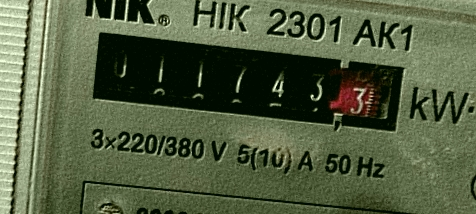0: (109, 45, 132, 83)
1: (192, 54, 210, 90), (155, 51, 168, 84)
3: (305, 69, 327, 105), (348, 85, 369, 120)
4: (268, 65, 288, 101)
7: (229, 60, 251, 96)
screen: (77, 19, 418, 146)
